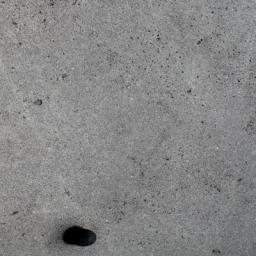FOD: (61, 225, 99, 250)
